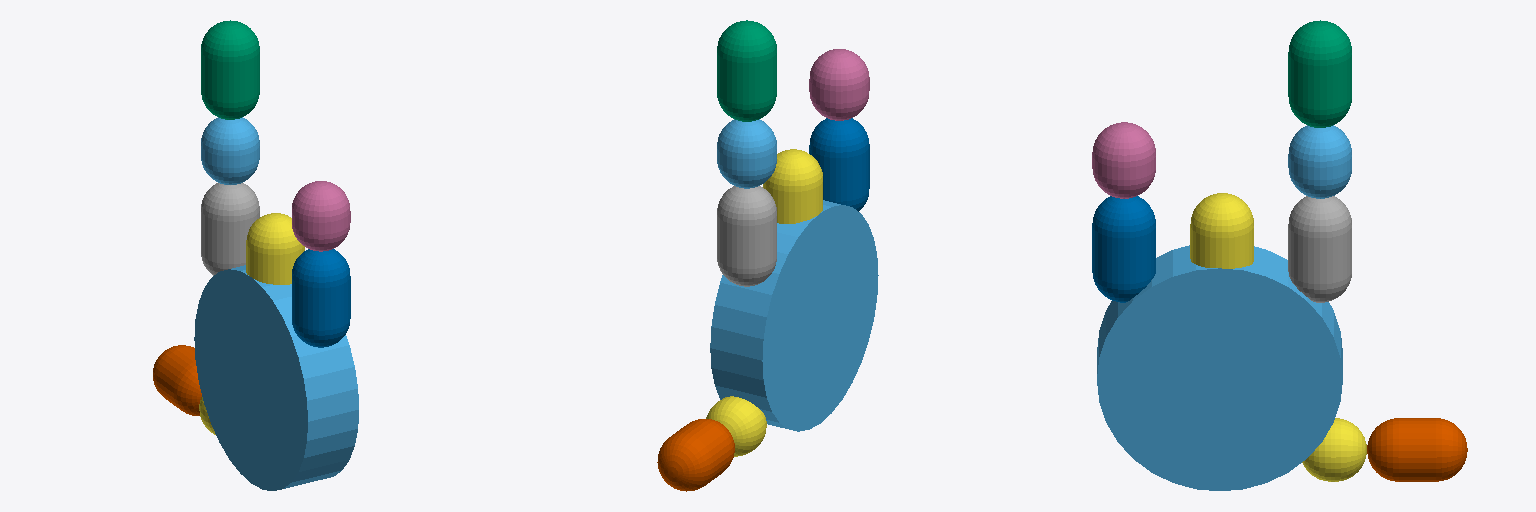
robot.urdf — DexterousHand:
<?xml version="1.0"?>
<robot name="DexterousHand">


    <link name="world"/>
    <joint name="world_to_palm" type="fixed">
        <parent link="world"/>
        <child link="palm"/>
        <origin xyz="0 0 0" rpy="0 0 0"/>
    </joint>
    <link name="palm">
        <inertial>
            <origin xyz="0 0 0.057" rpy="0 0 0"/>
            <mass value="0.30212892864"/>
            <inertia ixx="0.00049080844457568" ixy="0.0" ixz="0.0" iyy="0.00026746366246427523" iyz="0.0" izz="0.00026746366246427523"/>
        </inertial>
        <visual>
            <origin xyz="0 0 0.057" rpy="1.5708 0 1.5708"/>
            <geometry>
                <cylinder radius="0.057" length="0.0296"/>
            </geometry>
            <material name="default"/>
        </visual>
        <collision>
            <origin xyz="0 0 0.057" rpy="1.5708 0 1.5708"/>
            <geometry>
                <cylinder radius="0.057" length="0.0296"/>
            </geometry>
        </collision>
    </link>

    
    <joint name="thumb_joint1" type="revolute">
        <parent link="palm"/>
        <child link="thumb_base"/>
        <origin xyz="0.0029 0.0368 0.0157" rpy="-1.5708 -1.5708 0.0"/>
        <axis xyz="-1 0 0"/>
        <limit lower="-0.349" upper="2.094" effort="1.0" velocity="1.0"/>
    </joint>

    <link name="thumb_base"></link>

    <joint name="thumb_joint2" type="revolute">
        <parent link="thumb_base"/>
        <child link="thumb_proximal"/>
        <origin xyz="0.0 0.0 0.0" rpy="0.0 0.0 0.0"/>
        <axis xyz="0 0 1"/>
        <limit lower="-0.47" upper="2.443" effort="1.0" velocity="1.0"/>
    </joint>

    <link name="thumb_proximal">
        <inertial>
            <origin xyz="0 0 0.01565" rpy="0 0 0"/>
            <mass value="0.021538658803200002"/>
            <inertia ixx="2.9378910096388167e-06" ixy="0.0" ixz="0.0" 
            iyy="2.9378910096388167e-06" iyz="0.0" izz="2.358913912126464e-06"/>
        </inertial>
        <visual>
            <origin xyz="0 0 0.01565" rpy="0 0 0"/>
            <geometry>
                <cylinder radius="0.0148" length="0.0017000000000000001"/>
            </geometry>
            <material name="default"/>
        </visual>
        <visual>
            <origin xyz="0 0 0.0148" rpy="0 0 0"/>
            <geometry>
                <sphere radius="0.0148"/>
            </geometry>
            <material name="default"/>
        </visual>
        <visual>
            <origin xyz="0 0 0.0165" rpy="0 0 0"/>
            <geometry>
                <sphere radius="0.0148"/>
            </geometry>
            <material name="default"/>
        </visual>
        <collision>
            <origin xyz="0 0 0.01565" rpy="0 0 0"/>
            <geometry>
                <cylinder radius="0.0148" length="0.0017000000000000001"/>
            </geometry>
        </collision>
        <collision>
            <origin xyz="0 0 0.0148" rpy="0 0 0"/>
            <geometry>
                <sphere radius="0.0148"/>
            </geometry>
        </collision>
        <collision>
            <origin xyz="0 0 0.0165" rpy="0 0 0"/>
            <geometry>
                <sphere radius="0.0148"/>
            </geometry>
        </collision>
    </link>

    <joint name="thumb_joint3" type="revolute">
        <parent link="thumb_proximal"/>
        <child link="thumb_knuckle"/>
        <origin xyz="0.0 0.0 0.0313" rpy="0.0 0.0 0.0"/>
        <axis xyz="1 0 0"/>
        <limit lower="0.0" upper="0.0" effort="1.0" velocity="1.0"/>
    </joint>

    <link name="thumb_knuckle"></link>

    <joint name="thumb_joint4" type="revolute">
        <parent link="thumb_knuckle"/>
        <child link="thumb_middle"/>
        <origin xyz="0 0 0" rpy="0 0 0"/> 
        <axis xyz="0 1 0"/>
        <limit lower="-1.2" upper="1.9" effort="1.0" velocity="1.0"/>
    </joint>

    <link name="thumb_middle">
        <inertial>
            <origin xyz="0 0 0.0233" rpy="0 0 0"/>
            <mass value="0.032067140582400004"/>
            <inertia ixx="7.5589732685519385e-06" ixy="0.0" ixz="0.0" 
            iyy="7.5589732685519385e-06" iyz="0.0" izz="3.5119932365844485e-06"/>
        </inertial>
        <visual>
            <origin xyz="0 0 0.0233" rpy="0 0 0"/>
            <geometry>
                <cylinder radius="0.0148" length="0.017"/>
            </geometry>
            <material name="default"/>
        </visual>
        <visual>
            <origin xyz="0 0 0.0148" rpy="0 0 0"/>
            <geometry>
                <sphere radius="0.0148"/>
            </geometry>
            <material name="default"/>
        </visual>
        <visual>
            <origin xyz="0 0 0.0318" rpy="0 0 0"/>
            <geometry>
                <sphere radius="0.0148"/>
            </geometry>
            <material name="default"/>
        </visual>
        <collision>
            <origin xyz="0 0 0.0233" rpy="0 0 0"/>
            <geometry>
                <cylinder radius="0.0148" length="0.017"/>
            </geometry>
        </collision>
        <collision>
            <origin xyz="0 0 0.0148" rpy="0 0 0"/>
            <geometry>
                <sphere radius="0.0148"/>
            </geometry>
        </collision>
        <collision>
            <origin xyz="0 0 0.0318" rpy="0 0 0"/>
            <geometry>
                <sphere radius="0.0148"/>
            </geometry>
        </collision>
    </link>

    <joint name="thumb_joint5" type="revolute">
        <parent link="thumb_middle"/>
        <child link="thumb_distal"/>
        <origin xyz="0 0 0.0466" rpy="0 0 0"/> 
        <axis xyz="0 1 0"/>
        <limit lower="0.0" upper="0.0" effort="1.0" velocity="1.0"/>
    </joint>

    <link name="thumb_distal">
    </link>

    
    <joint name="index_joint1" type="revolute">
        <parent link="palm"/>
        <child link="index_proximal"/>
        <origin xyz="0.0 0.0465 0.091" rpy="0.0 0.0 0.0"/>
        <axis xyz="0 1 0"/>
        <limit lower="-0.314" upper="2.23" effort="1.0" velocity="1.0"/>
    </joint>

    <link name="index_proximal">
        <inertial>
            <origin xyz="0 0 0.02655" rpy="0 0 0"/>
            <mass value="0.036540024998400006"/>
            <inertia ixx="1.058665009272394e-05" ixy="0.0" ixz="0.0" 
            iyy="1.058665009272394e-05" iyz="0.0" izz="4.001863537824769e-06"/>
        </inertial>
        <visual>
            <origin xyz="0 0 0.02655" rpy="0 0 0"/>
            <geometry>
                <cylinder radius="0.0148" length="0.0235"/>
            </geometry>
            <material name="default"/>
        </visual>
        <visual>
            <origin xyz="0 0 0.0148" rpy="0 0 0"/>
            <geometry>
                <sphere radius="0.0148"/>
            </geometry>
            <material name="default"/>
        </visual>
        <visual>
            <origin xyz="0 0 0.0383" rpy="0 0 0"/>
            <geometry>
                <sphere radius="0.0148"/>
            </geometry>
            <material name="default"/>
        </visual>
        <collision>
            <origin xyz="0 0 0.02655" rpy="0 0 0"/>
            <geometry>
                <cylinder radius="0.0148" length="0.0235"/>
            </geometry>
        </collision>
        <collision>
            <origin xyz="0 0 0.0148" rpy="0 0 0"/>
            <geometry>
                <sphere radius="0.0148"/>
            </geometry>
        </collision>
        <collision>
            <origin xyz="0 0 0.0383" rpy="0 0 0"/>
            <geometry>
                <sphere radius="0.0148"/>
            </geometry>
        </collision>
    </link>

    <joint name="index_joint2" type="revolute">
        <parent link="index_proximal"/>
        <child link="index_dummy"/>
        <origin xyz="0.0 0.0 0.038" rpy="0.0 0.0 0.0"/>
        <axis xyz="1 0 0"/>
        <limit lower="-1.047" upper="1.047" effort="1.0" velocity="1.0"/>
    </joint>

    <link name="index_dummy"></link>

    <joint name="index_joint3" type="revolute">
        <parent link="index_dummy"/>
        <child link="index_middle"/>
        <origin xyz="0 0 0.015100000000000002" rpy="0 0 0"/>
        <axis xyz="0 1 0"/>
        <limit lower="-0.506" upper="1.885" effort="1.0" velocity="1.0"/>
    </joint>

    <link name="index_middle">
        <inertial>
            <origin xyz="0 0 0.01805" rpy="0 0 0"/>
            <mass value="0.0248417119104"/>
            <inertia ixx="4.058162759109537e-06" ixy="0.0" ixz="0.0" 
            iyy="4.058162759109537e-06" iyz="0.0" izz="2.7206642884270085e-06"/>
        </inertial>
        <visual>
            <origin xyz="0 0 0.01805" rpy="0 0 0"/>
            <geometry>
                <cylinder radius="0.0148" length="0.006499999999999999"/>
            </geometry>
            <material name="default"/>
        </visual>
        <visual>
            <origin xyz="0 0 0.0148" rpy="0 0 0"/>
            <geometry>
                <sphere radius="0.0148"/>
            </geometry>
            <material name="default"/>
        </visual>
        <visual>
            <origin xyz="0 0 0.0213" rpy="0 0 0"/>
            <geometry>
                <sphere radius="0.0148"/>
            </geometry>
            <material name="default"/>
        </visual>
        <collision>
            <origin xyz="0 0 0.01805" rpy="0 0 0"/>
            <geometry>
                <cylinder radius="0.0148" length="0.006499999999999999"/>
            </geometry>
        </collision>
        <collision>
            <origin xyz="0 0 0.0148" rpy="0 0 0"/>
            <geometry>
                <sphere radius="0.0148"/>
            </geometry>
        </collision>
        <collision>
            <origin xyz="0 0 0.0213" rpy="0 0 0"/>
            <geometry>
                <sphere radius="0.0148"/>
            </geometry>
        </collision>
    </link>

    <joint name="index_joint4" type="revolute">
        <parent link="index_middle"/>
        <child link="index_distal"/>
        <origin xyz="0 0 0.0361" rpy="0 0 0"/> 
        <axis xyz="0 1 0"/>
        <limit lower="-0.366" upper="2.042" effort="1.0" velocity="1.0"/>
    </joint>

    <link name="index_distal">
        <inertial>
            <origin xyz="0 0 0.026" rpy="0 0 0"/>
            <mass value="0.035783075328"/>
            <inertia ixx="1.002260084553728e-05" ixy="0.0" ixz="0.0" 
            iyy="1.002260084553728e-05" iyz="0.0" izz="3.91896240992256e-06"/>
        </inertial>
        <visual>
            <origin xyz="0 0 0.026" rpy="0 0 0"/>
            <geometry>
                <cylinder radius="0.0148" length="0.022399999999999996"/>
            </geometry>
            <material name="default"/>
        </visual>
        <visual>
            <origin xyz="0 0 0.0148" rpy="0 0 0"/>
            <geometry>
                <sphere radius="0.0148"/>
            </geometry>
            <material name="default"/>
        </visual>
        <visual>
            <origin xyz="0 0 0.0372" rpy="0 0 0"/>
            <geometry>
                <sphere radius="0.0148"/>
            </geometry>
            <material name="default"/>
        </visual>
        <collision>
            <origin xyz="0 0 0.026" rpy="0 0 0"/>
            <geometry>
                <cylinder radius="0.0148" length="0.022399999999999996"/>
            </geometry>
        </collision>
        <collision>
            <origin xyz="0 0 0.0148" rpy="0 0 0"/>
            <geometry>
                <sphere radius="0.0148"/>
            </geometry>
        </collision>
        <collision>
            <origin xyz="0 0 0.0372" rpy="0 0 0"/>
            <geometry>
                <sphere radius="0.0148"/>
            </geometry>
        </collision>
    </link>

    
    <joint name="middle_joint1" type="revolute">
        <parent link="palm"/>
        <child link="middle_proximal"/>
        <origin xyz="0.0 0.0011 0.091" rpy="0.0 0.0 0.0"/>
        <axis xyz="0 1 0"/>
        <limit lower="-0.314" upper="2.23" effort="1.0" velocity="1.0"/>
    </joint>

    <link name="middle_proximal">
        <inertial>
            <origin xyz="0 0 0.02655" rpy="0 0 0"/>
            <mass value="0.036540024998400006"/>
            <inertia ixx="1.058665009272394e-05" ixy="0.0" ixz="0.0" 
            iyy="1.058665009272394e-05" iyz="0.0" izz="4.001863537824769e-06"/>
        </inertial>
        <visual>
            <origin xyz="0 0 0.02655" rpy="0 0 0"/>
            <geometry>
                <cylinder radius="0.0148" length="0.0235"/>
            </geometry>
            <material name="default"/>
        </visual>
        <visual>
            <origin xyz="0 0 0.0148" rpy="0 0 0"/>
            <geometry>
                <sphere radius="0.0148"/>
            </geometry>
            <material name="default"/>
        </visual>
        <visual>
            <origin xyz="0 0 0.0383" rpy="0 0 0"/>
            <geometry>
                <sphere radius="0.0148"/>
            </geometry>
            <material name="default"/>
        </visual>
        <collision>
            <origin xyz="0 0 0.02655" rpy="0 0 0"/>
            <geometry>
                <cylinder radius="0.0148" length="0.0235"/>
            </geometry>
        </collision>
        <collision>
            <origin xyz="0 0 0.0148" rpy="0 0 0"/>
            <geometry>
                <sphere radius="0.0148"/>
            </geometry>
        </collision>
        <collision>
            <origin xyz="0 0 0.0383" rpy="0 0 0"/>
            <geometry>
                <sphere radius="0.0148"/>
            </geometry>
        </collision>
    </link>

    <joint name="middle_joint2" type="revolute">
        <parent link="middle_proximal"/>
        <child link="middle_dummy"/>
        <origin xyz="0.0 0.0 0.038" rpy="0.0 0.0 0.0"/>
        <axis xyz="0 1 0"/>
        <limit lower="0.0" upper="0.0" effort="1.0" velocity="1.0"/>
    </joint>

    <link name="middle_dummy"></link>

    <joint name="middle_joint3" type="revolute">
        <parent link="middle_dummy"/>
        <child link="middle_middle"/>
        <origin xyz="0 0 0.015100000000000002" rpy="0 0 0"/>
        <axis xyz="0 1 0"/>
        <limit lower="0.0" upper="0.0" effort="1.0" velocity="1.0"/>
    </joint>

    <link name="middle_middle">
    </link>

    <joint name="middle_joint4" type="revolute">
        <parent link="middle_middle"/>
        <child link="middle_distal"/>
        <origin xyz="0 0 0" rpy="0 0 0"/> 
        <axis xyz="0 1 0"/>
        <limit lower="0.0" upper="0.0" effort="1.0" velocity="1.0"/>
    </joint>

    <link name="middle_distal">
    </link>

    
    <joint name="ring_joint1" type="revolute">
        <parent link="palm"/>
        <child link="ring_proximal"/>
        <origin xyz="0.0 0.0 0.0" rpy="0.0 0.0 0.0"/>
        <axis xyz="1 0 0"/>
        <limit lower="0.0" upper="0.0" effort="1.0" velocity="1.0"/>
    </joint>

    <link name="ring_proximal">
    </link>

    <joint name="ring_joint2" type="revolute">
        <parent link="ring_proximal"/>
        <child link="ring_dummy"/>
        <origin xyz="0.0 0.0 0.0" rpy="0.0 0.0 0.0"/>
        <axis xyz="0 1 0"/>
        <limit lower="0.0" upper="0.0" effort="1.0" velocity="1.0"/>
    </joint>

    <link name="ring_dummy"></link>

    <joint name="ring_joint3" type="revolute">
        <parent link="ring_dummy"/>
        <child link="ring_middle"/>
        <origin xyz="0 0 0" rpy="0 0 0"/>
        <axis xyz="0 1 0"/>
        <limit lower="0.0" upper="0.0" effort="1.0" velocity="1.0"/>
    </joint>

    <link name="ring_middle">
    </link>

    <joint name="ring_joint4" type="revolute">
        <parent link="ring_middle"/>
        <child link="ring_distal"/>
        <origin xyz="0 0 0" rpy="0 0 0"/> 
        <axis xyz="0 1 0"/>
        <limit lower="0.0" upper="0.0" effort="1.0" velocity="1.0"/>
    </joint>

    <link name="ring_distal">
    </link>

    
    <joint name="little_joint0" type="revolute">
        <parent link="palm"/>
        <child link="little_base"/>
        <origin xyz="0.0 0.0 0.0" rpy="0.0 0.0 0.0"/>
        <axis xyz="0 1 0"/>
        <limit lower="0.0" upper="0.0" effort="1.0" velocity="1.0"/>
    </joint>

    <link name="little_base"></link>

    <joint name="little_joint1" type="revolute">
        <parent link="little_base"/>
        <child link="little_proximal"/>
        <origin xyz="0.0 -0.0443 0.091" rpy="-0.0 -0.0 -0.0"/>
        <axis xyz="0 1 0"/>
        <limit lower="-0.314" upper="2.23" effort="1.0" velocity="1.0"/>
    </joint>

    <link name="little_proximal">
        <inertial>
            <origin xyz="0 0 0.02655" rpy="0 0 0"/>
            <mass value="0.036540024998400006"/>
            <inertia ixx="1.058665009272394e-05" ixy="0.0" ixz="0.0" 
            iyy="1.058665009272394e-05" iyz="0.0" izz="4.001863537824769e-06"/>
        </inertial>
        <visual>
            <origin xyz="0 0 0.02655" rpy="0 0 0"/>
            <geometry>
                <cylinder radius="0.0148" length="0.0235"/>
            </geometry>
            <material name="default"/>
        </visual>
        <visual>
            <origin xyz="0 0 0.0148" rpy="0 0 0"/>
            <geometry>
                <sphere radius="0.0148"/>
            </geometry>
            <material name="default"/>
        </visual>
        <visual>
            <origin xyz="0 0 0.0383" rpy="0 0 0"/>
            <geometry>
                <sphere radius="0.0148"/>
            </geometry>
            <material name="default"/>
        </visual>
        <collision>
            <origin xyz="0 0 0.02655" rpy="0 0 0"/>
            <geometry>
                <cylinder radius="0.0148" length="0.0235"/>
            </geometry>
        </collision>
        <collision>
            <origin xyz="0 0 0.0148" rpy="0 0 0"/>
            <geometry>
                <sphere radius="0.0148"/>
            </geometry>
        </collision>
        <collision>
            <origin xyz="0 0 0.0383" rpy="0 0 0"/>
            <geometry>
                <sphere radius="0.0148"/>
            </geometry>
        </collision>
    </link>

    <joint name="little_joint2" type="revolute">
        <parent link="little_proximal"/>
        <child link="little_dummy"/>
        <origin xyz="0.0 0.0 0.038" rpy="0.0 0.0 0.0"/>
        <axis xyz="1 0 0"/>
        <limit lower="-1.047" upper="1.047" effort="1.0" velocity="1.0"/>
    </joint>

    <link name="little_dummy"></link>

    <joint name="little_joint3" type="revolute">
        <parent link="little_dummy"/>
        <child link="little_middle"/>
        <origin xyz="0 0 0.015100000000000002" rpy="0 0 0"/>
        <axis xyz="0 1 0"/>
        <limit lower="-0.506" upper="1.885" effort="1.0" velocity="1.0"/>
    </joint>

    <link name="little_middle">
        <inertial>
            <origin xyz="0 0 0.01805" rpy="0 0 0"/>
            <mass value="0.0248417119104"/>
            <inertia ixx="4.058162759109537e-06" ixy="0.0" ixz="0.0" 
            iyy="4.058162759109537e-06" iyz="0.0" izz="2.7206642884270085e-06"/>
        </inertial>
        <visual>
            <origin xyz="0 0 0.01805" rpy="0 0 0"/>
            <geometry>
                <cylinder radius="0.0148" length="0.006499999999999999"/>
            </geometry>
            <material name="default"/>
        </visual>
        <visual>
            <origin xyz="0 0 0.0148" rpy="0 0 0"/>
            <geometry>
                <sphere radius="0.0148"/>
            </geometry>
            <material name="default"/>
        </visual>
        <visual>
            <origin xyz="0 0 0.0213" rpy="0 0 0"/>
            <geometry>
                <sphere radius="0.0148"/>
            </geometry>
            <material name="default"/>
        </visual>
        <collision>
            <origin xyz="0 0 0.01805" rpy="0 0 0"/>
            <geometry>
                <cylinder radius="0.0148" length="0.006499999999999999"/>
            </geometry>
        </collision>
        <collision>
            <origin xyz="0 0 0.0148" rpy="0 0 0"/>
            <geometry>
                <sphere radius="0.0148"/>
            </geometry>
        </collision>
        <collision>
            <origin xyz="0 0 0.0213" rpy="0 0 0"/>
            <geometry>
                <sphere radius="0.0148"/>
            </geometry>
        </collision>
    </link>

    <joint name="little_joint4" type="revolute">
        <parent link="little_middle"/>
        <child link="little_distal"/>
        <origin xyz="0 0 0.0361" rpy="0 0 0"/>
        <axis xyz="0 1 0"/>
        <limit lower="0.0" upper="0.0" effort="1.0" velocity="1.0"/>
    </joint>

    <link name="little_distal">
    </link>

</robot>

--- What the picture shows (computed from the rendered views, not written in the file) ---
The picture shows the robot from 3 angles, left to right: view 1: azimuth 30°, elevation 25°; view 2: azimuth 150°, elevation 25°; view 3: azimuth 270°, elevation 25°; orthographic projection.
Robot: DexterousHand — 24 links, 23 joints (22 revolute, 1 fixed); root link world; default pose: all joints at 0.
Links seen in each view (by area): view 1: palm, little_proximal, index_distal, index_proximal, little_middle, index_middle, middle_proximal, thumb_middle; view 2: palm, index_proximal, index_distal, little_proximal, thumb_middle, little_middle, index_middle, middle_proximal, thumb_proximal; view 3: palm, index_distal, index_proximal, little_proximal, thumb_middle, middle_proximal, little_middle, index_middle, thumb_proximal.
Boxes of the visible links, x1,y1,x2,y2 form: palm: (194,265,358,490); little_proximal: (292,249,350,347); index_distal: (201,20,259,119); index_proximal: (201,183,259,275); little_middle: (292,181,350,251); index_middle: (201,117,259,184); middle_proximal: (246,213,304,284); thumb_middle: (153,345,201,415); palm: (710,200,878,431); index_proximal: (717,186,776,286); index_distal: (717,20,776,121); little_proximal: (809,118,869,211); thumb_middle: (657,419,734,491); little_middle: (809,49,869,120); index_middle: (717,119,776,188); middle_proximal: (763,149,822,223); thumb_proximal: (706,396,766,456); palm: (1097,245,1342,490); index_distal: (1288,20,1351,127); index_proximal: (1288,196,1351,302); little_proximal: (1092,196,1155,302); thumb_middle: (1367,418,1467,481); middle_proximal: (1190,193,1253,268); little_middle: (1092,122,1155,198); index_middle: (1288,125,1351,198); thumb_proximal: (1302,418,1366,481).
Bounding box of the posed robot: 0.0325 × 0.1738 × 0.2322 m (x, y, z).
Geometry: primitives only (box / cylinder / sphere), no mesh files.
